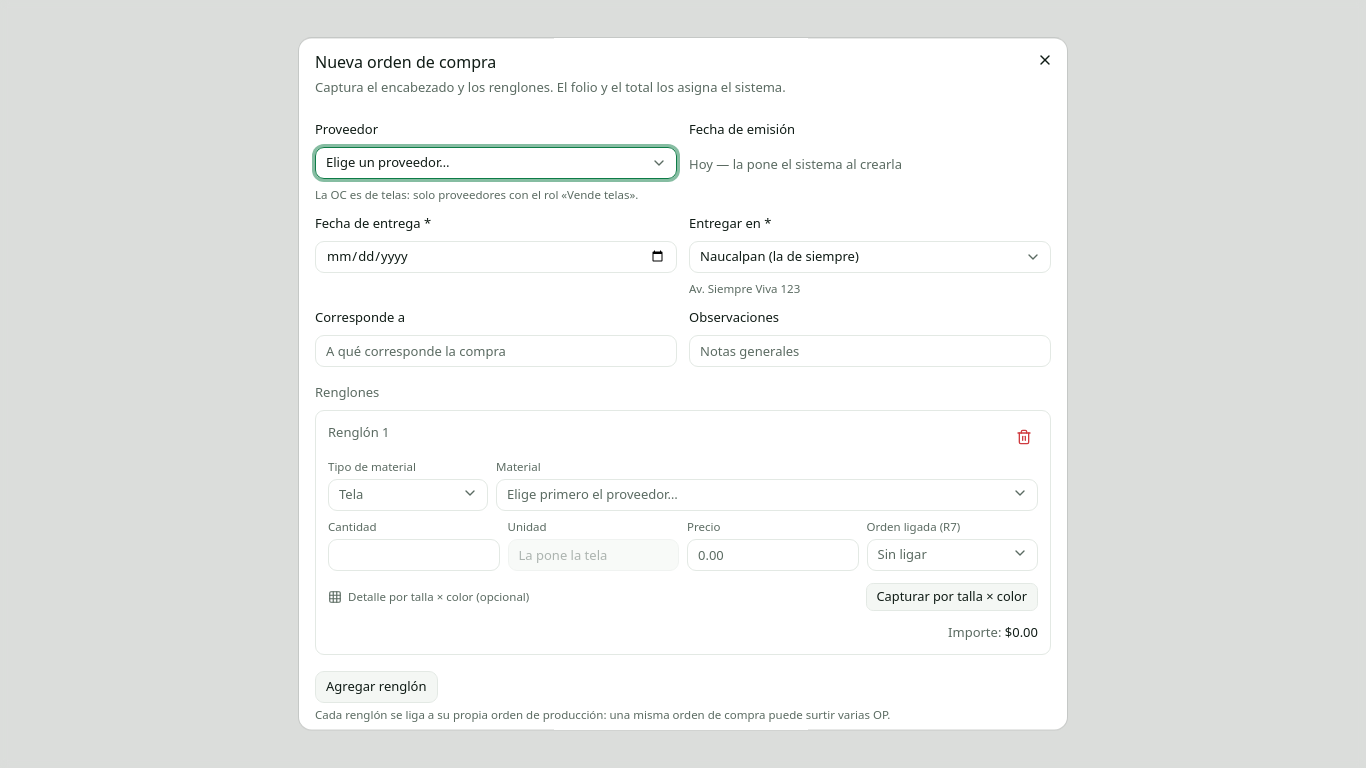
Test case: DialogoEditarOc · reglas de captura de Daniel (§Post-F9.18) › al cambiar de dirección se actualiza el texto que saldrá impreso
Select "Bodega Montaño" in the dropdown with test id "oc-direccion-entrega" at (870, 257), box [689,241,1051,273]
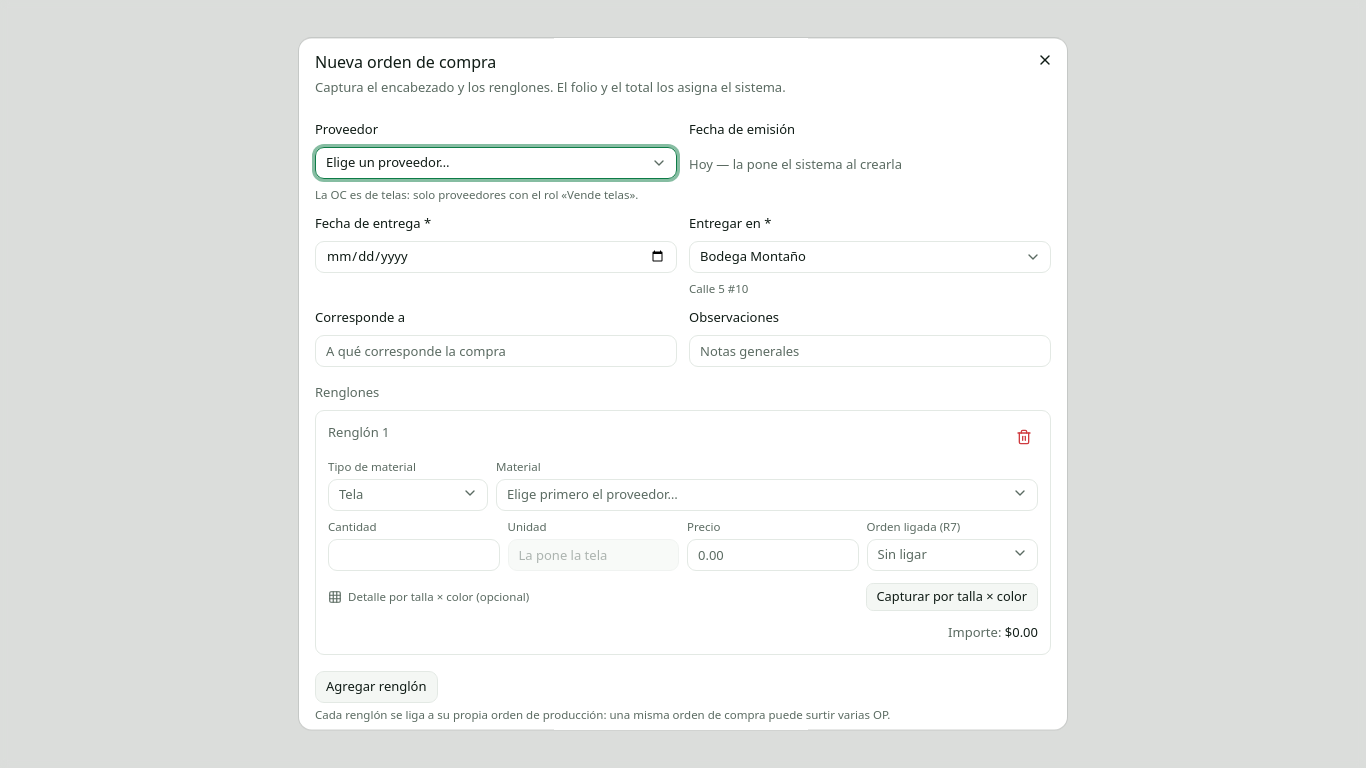
Check: the text with test id "oc-direccion-entrega-texto" reads "Calle 5 #10", box [689,281,748,296]
